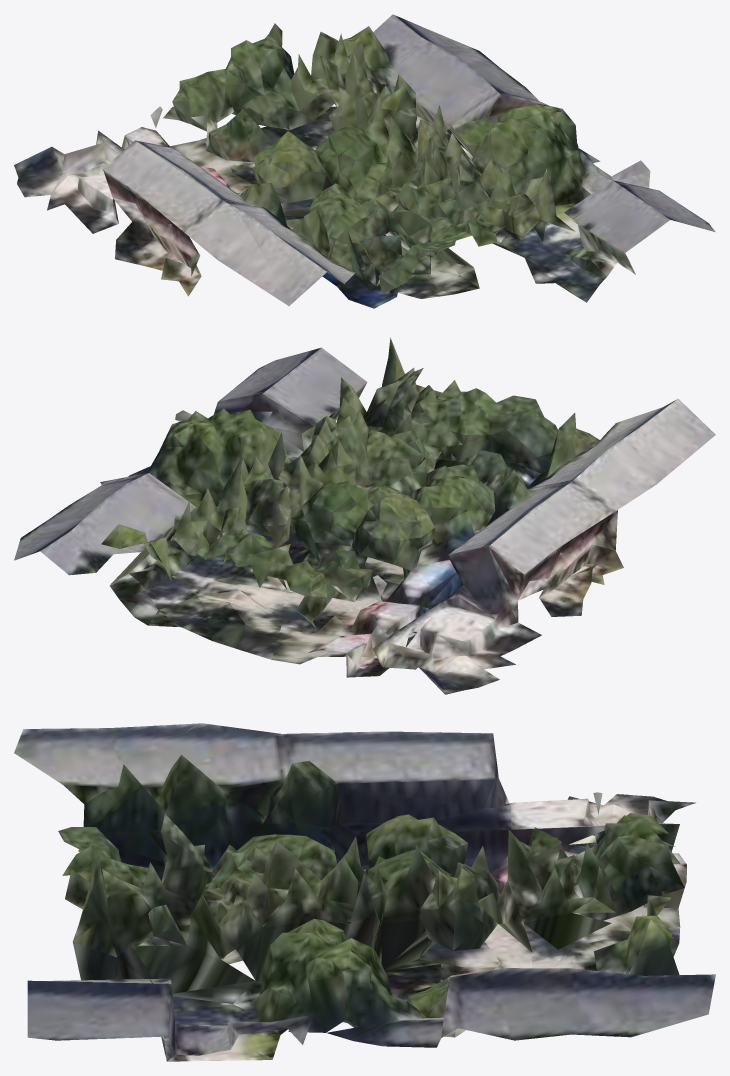
The model's file is Tile_+005_+004_L16_0.glb.
3 renders of one model, top to bottom at view 1: azimuth 30°, elevation 25°; view 2: azimuth 150°, elevation 25°; view 3: azimuth 270°, elevation 25°, orthographic. The views are drawn at different scales.
Parts seen in each view (by area): view 1: rtc; view 2: rtc; view 3: rtc.
Boxes of the visible parts, x1=… form: rtc: x1=14, y1=14, x2=715, y2=308; rtc: x1=14, y1=337, x2=715, y2=694; rtc: x1=14, y1=723, x2=715, y2=1061.
Bounding box in the file's own units: 59.69 × 16 × 61.75.
Materials: 1 (1 with a texture image).
